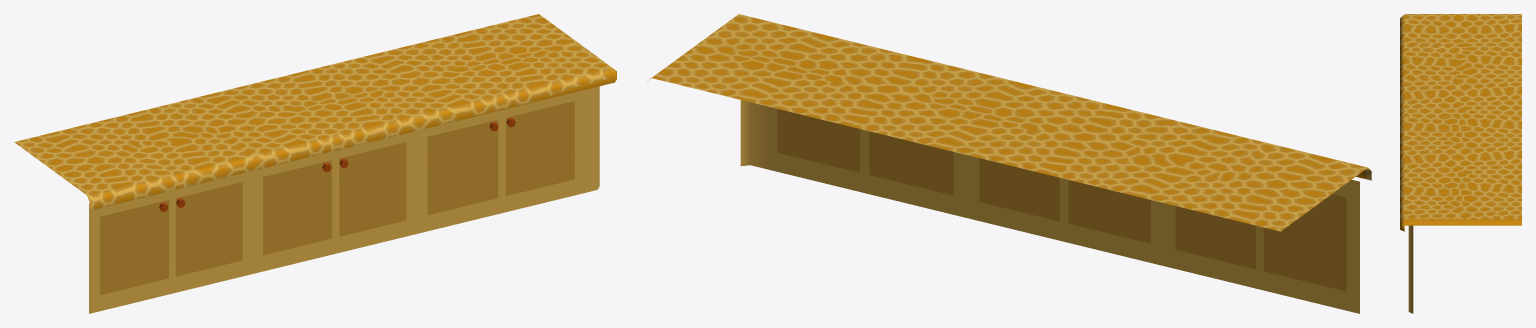
File: Counter_exp.fbx
3 views of the same model, side by side, from view 1: azimuth 30°, elevation 25°; view 2: azimuth 150°, elevation 25°; view 3: azimuth 270°, elevation 25° (orthographic). The views are drawn at different scales.
Parts seen in each view (by area): view 1: polySurface6; view 2: polySurface6; view 3: polySurface6.
Boxes of the visible parts, <box> form: polySurface6: <box>14,14,616,313</box>; polySurface6: <box>647,14,1371,313</box>; polySurface6: <box>1400,14,1521,313</box>.
Size of the model in its own units: 20.1 by 4.4 by 4.99.
Materials: 1 (1 with a texture image).
